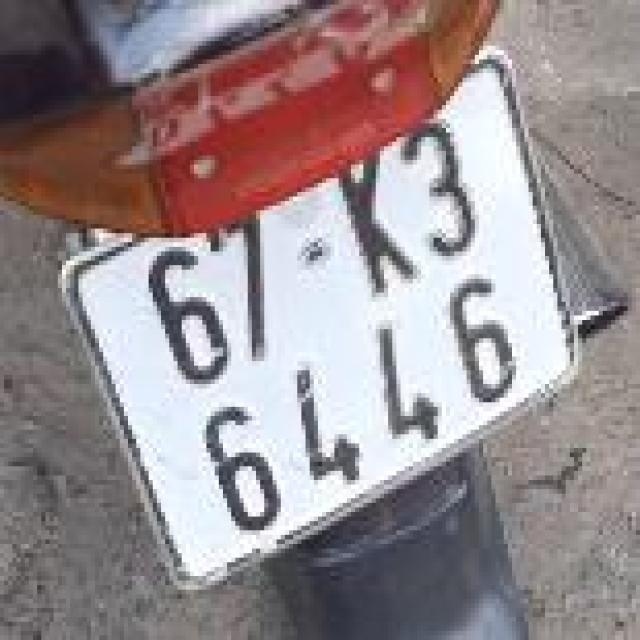3: (384, 106, 492, 276)
4: (356, 307, 453, 464), (276, 351, 375, 503)
6: (134, 236, 240, 399), (437, 261, 540, 419), (187, 388, 291, 543)
7: (197, 201, 298, 375)
K: (324, 144, 431, 307)
